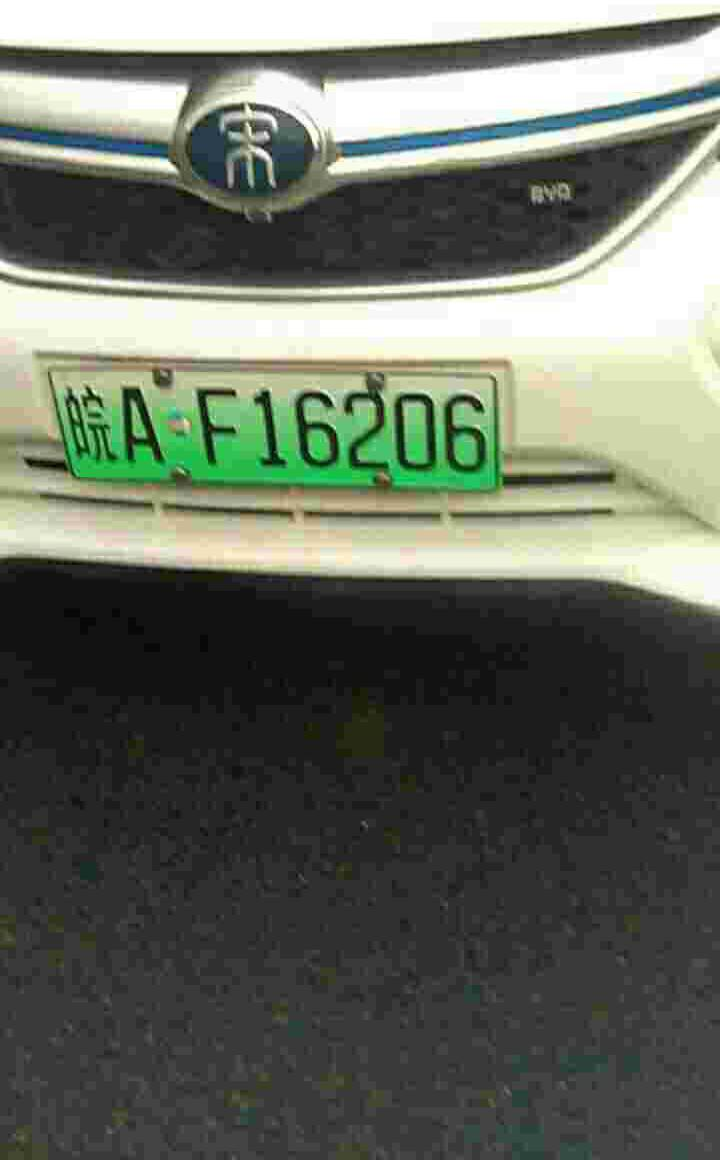car_id: (43, 369, 498, 488)
